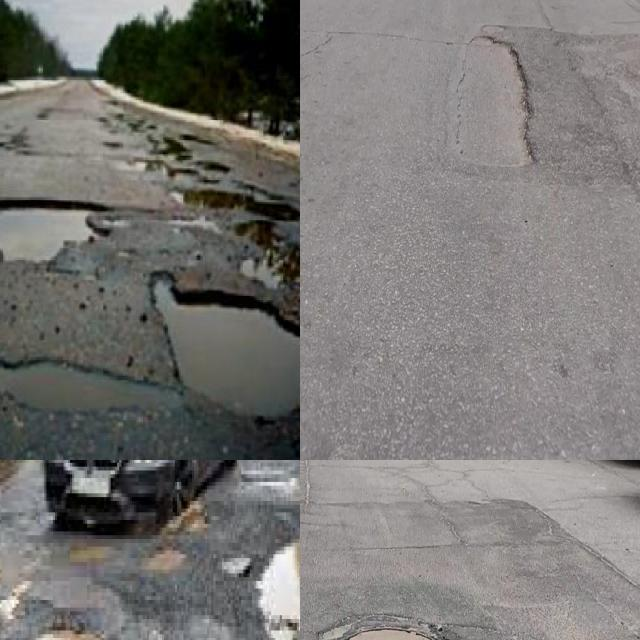Pothole: (148, 271, 300, 421), (454, 31, 535, 169), (0, 363, 185, 417), (0, 199, 111, 261), (343, 622, 439, 640)
